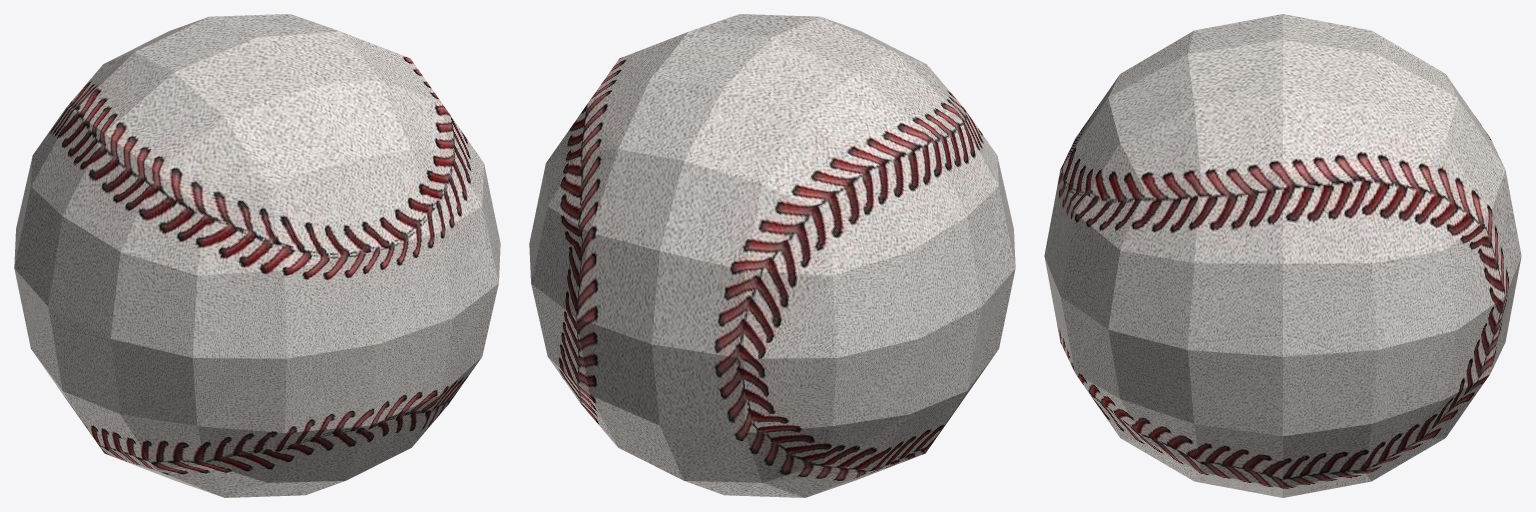
The model's file is baseball.obj.
3 views of the same model, side by side, from view 1: azimuth 30°, elevation 25°; view 2: azimuth 150°, elevation 25°; view 3: azimuth 270°, elevation 25° (orthographic).
Size of the model in its own units: 0.8785 by 0.8785 by 0.8785.
Materials: 1 (1 with a texture image).
